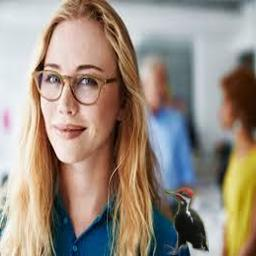Woodpecker: (164, 184, 209, 255)
